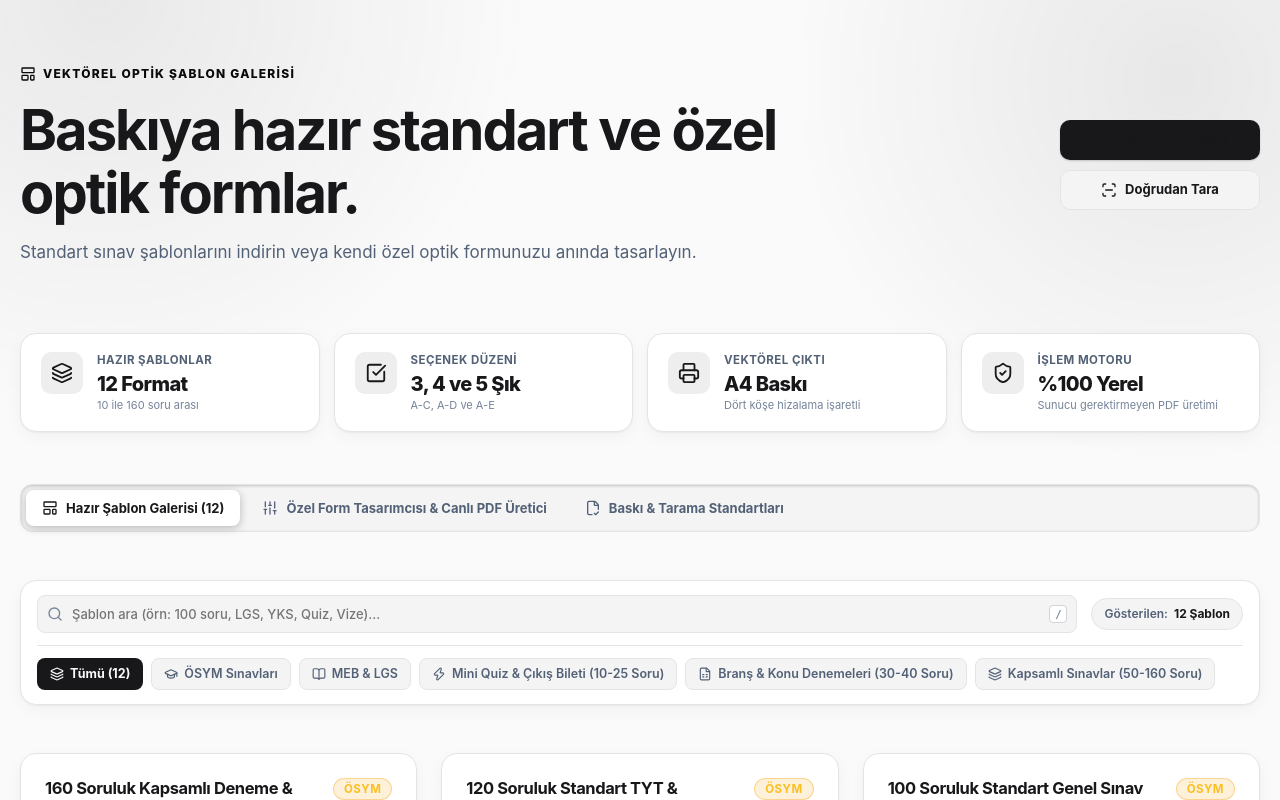
TemplatesPage (Standalone Optik Şablon Galerisi & PDF Üretici) › arama kutusuna yazıldığında şablonları filtreler ve arama temizlenebilir
The image size is (1280, 800).
Type "LGS" into the field labelled "Şablon ara" at (557,614), box left=37, top=595, right=1078, bottom=633
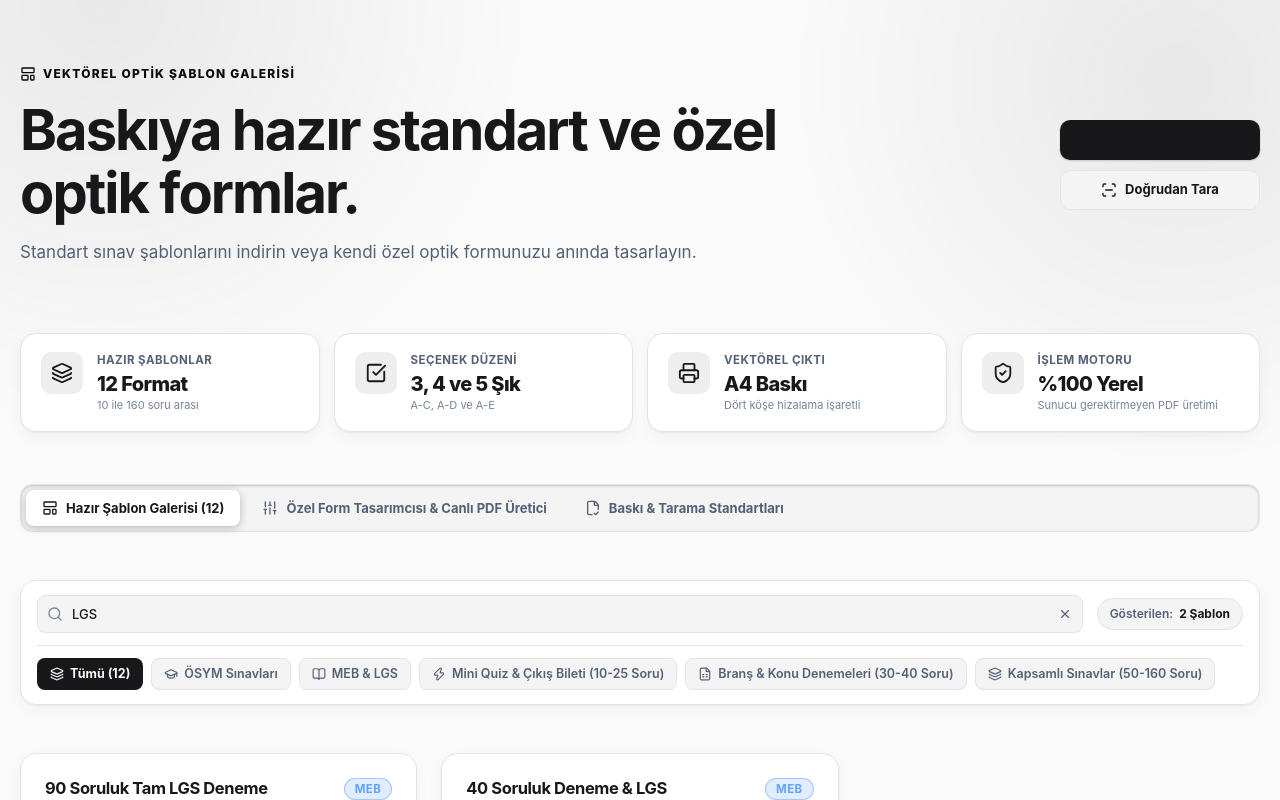
Expected: the heading "100 Soruluk Standart Genel Sınav" is gone
Click the button named "Aramayı temizle" at (1065,614), box left=1055, top=604, right=1075, bottom=624
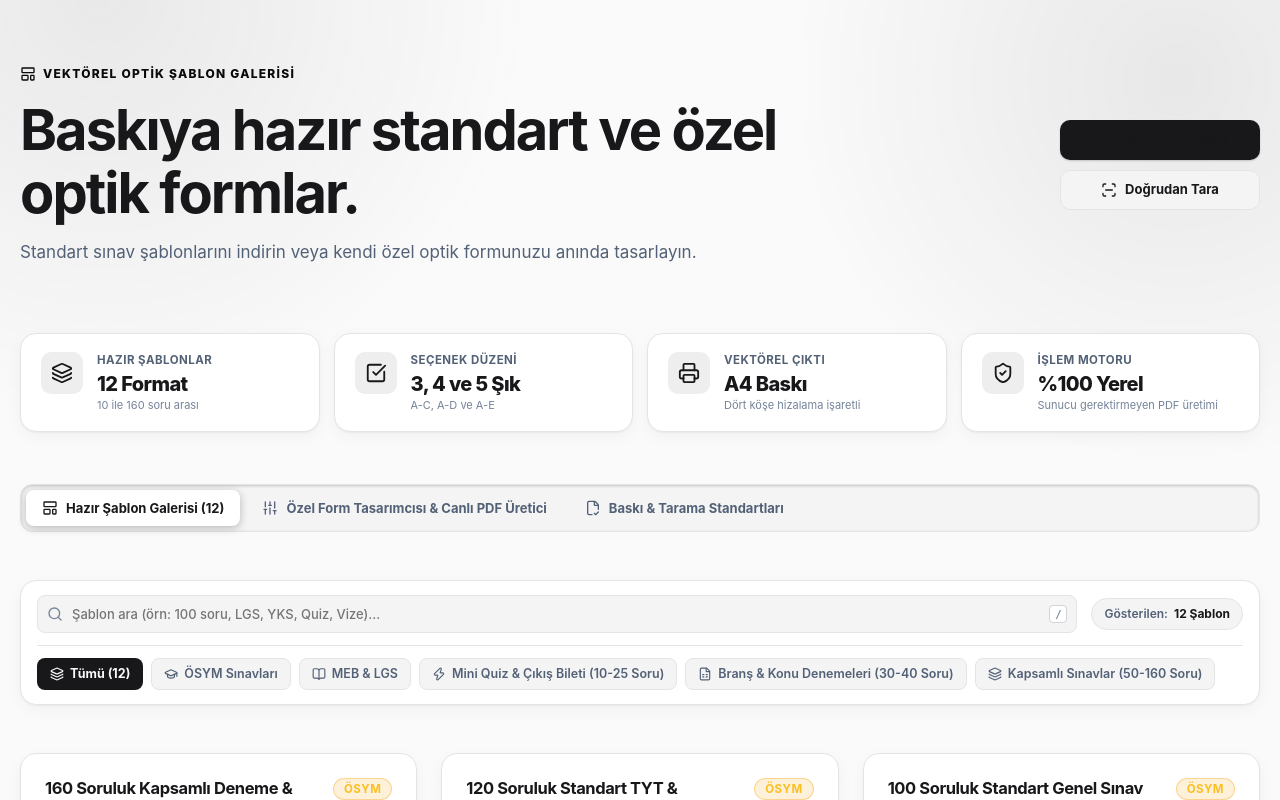
Expected: the heading "100 Soruluk Standart Genel Sınav" is shown, left=888, top=778, right=1143, bottom=799
